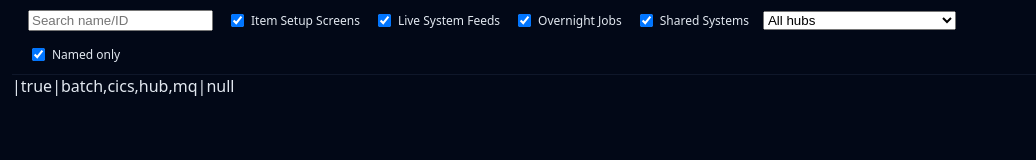
Test: FilterBar › selecting a hub updates FilterContext hubFilter
Select "Compliance Log" in the dropdown named "filter by hub": (859, 20) [763, 11, 956, 30]
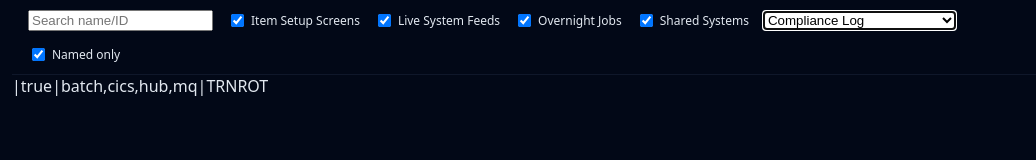
Now the text with test id "probe" shows "TRNROT", box [206, 75, 268, 97]
